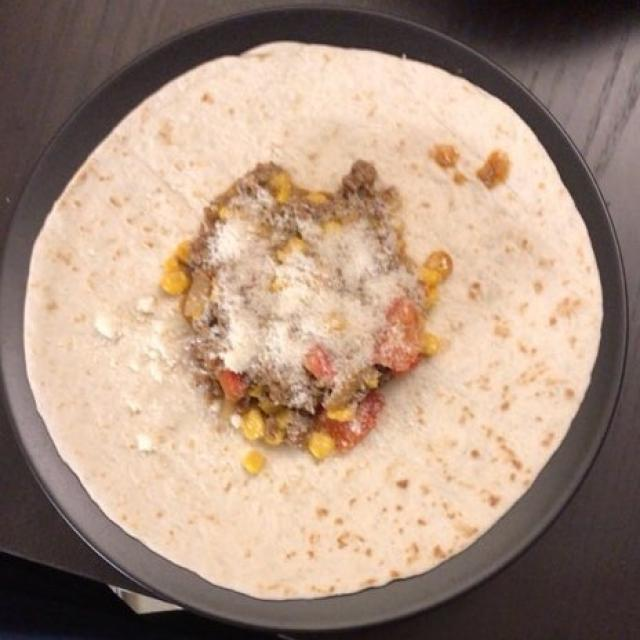beef: (159, 179, 431, 453), (179, 160, 395, 418), (184, 165, 392, 419)
bread: (18, 40, 602, 603), (34, 30, 606, 598), (18, 43, 600, 601)
mixed-vegetables: (167, 173, 452, 478)
sweet-corn-canned: (163, 209, 445, 473)
